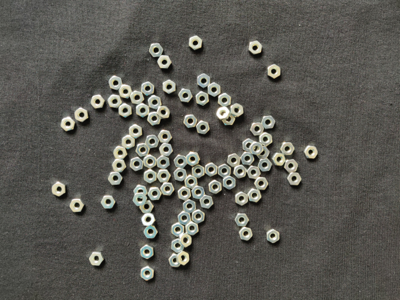nut: (52, 182, 66, 198), (61, 116, 75, 132), (89, 252, 105, 266), (70, 199, 85, 213), (101, 196, 116, 210), (91, 95, 106, 109), (129, 124, 143, 139), (109, 76, 123, 91), (141, 82, 155, 97), (136, 103, 150, 118), (148, 95, 162, 110), (133, 193, 148, 207), (133, 185, 148, 199), (145, 135, 160, 149), (149, 44, 164, 58), (178, 211, 192, 226), (216, 107, 231, 121), (266, 229, 280, 244), (261, 116, 276, 130), (112, 159, 126, 173), (108, 94, 122, 108), (119, 85, 133, 99), (130, 91, 144, 105), (147, 112, 161, 126), (130, 158, 144, 172), (161, 182, 175, 196), (158, 130, 172, 144), (200, 195, 214, 209), (179, 89, 193, 103), (196, 92, 210, 106), (218, 93, 232, 107), (227, 154, 241, 168), (249, 41, 263, 55), (241, 152, 255, 166), (247, 166, 261, 180), (250, 142, 264, 156), (75, 108, 88, 123), (113, 147, 128, 160), (122, 135, 135, 150), (119, 103, 132, 118), (156, 106, 171, 119), (141, 266, 154, 281), (141, 245, 154, 260), (141, 214, 156, 227), (144, 154, 157, 169), (144, 169, 157, 184), (179, 233, 192, 248), (192, 209, 205, 224), (186, 152, 199, 167), (218, 164, 231, 179), (189, 36, 202, 51), (198, 74, 211, 89), (208, 83, 221, 98), (268, 64, 281, 79), (235, 214, 250, 227), (260, 132, 273, 147), (284, 160, 299, 173), (287, 173, 302, 186), (304, 146, 319, 159), (144, 226, 158, 239), (140, 201, 154, 214), (136, 144, 150, 157), (148, 188, 162, 201), (157, 170, 171, 183), (157, 156, 170, 170), (159, 144, 173, 157), (163, 80, 176, 94), (158, 56, 172, 69), (169, 254, 182, 268), (172, 223, 185, 237), (186, 222, 199, 236), (183, 200, 196, 214), (178, 187, 191, 201), (174, 169, 188, 182), (174, 155, 188, 168), (185, 175, 198, 189), (192, 186, 205, 200), (209, 180, 222, 194), (184, 115, 198, 128), (197, 121, 210, 135), (239, 228, 253, 241), (248, 189, 261, 203), (254, 178, 268, 191), (233, 165, 247, 178), (258, 159, 272, 172), (243, 139, 256, 153), (256, 146, 270, 159), (250, 123, 264, 136), (273, 153, 286, 167), (281, 143, 295, 156), (108, 173, 123, 185), (177, 251, 189, 266), (172, 239, 184, 253), (193, 165, 205, 179), (205, 163, 217, 177), (224, 176, 236, 190), (231, 104, 243, 118), (236, 192, 248, 206), (223, 114, 236, 125)
